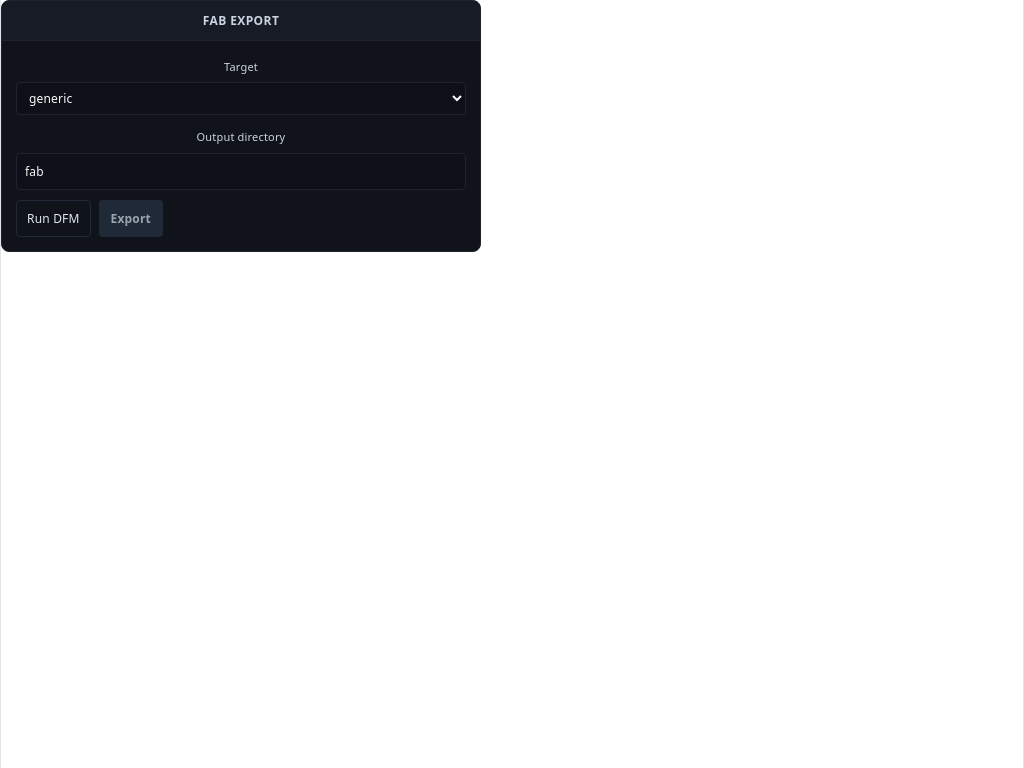
Test: FabExportDialog › running DFM with errors keeps Export disabled and lists issues
Click the button with test id "fab-dfm-run" at x=53, y=218, box [16,200,91,237]
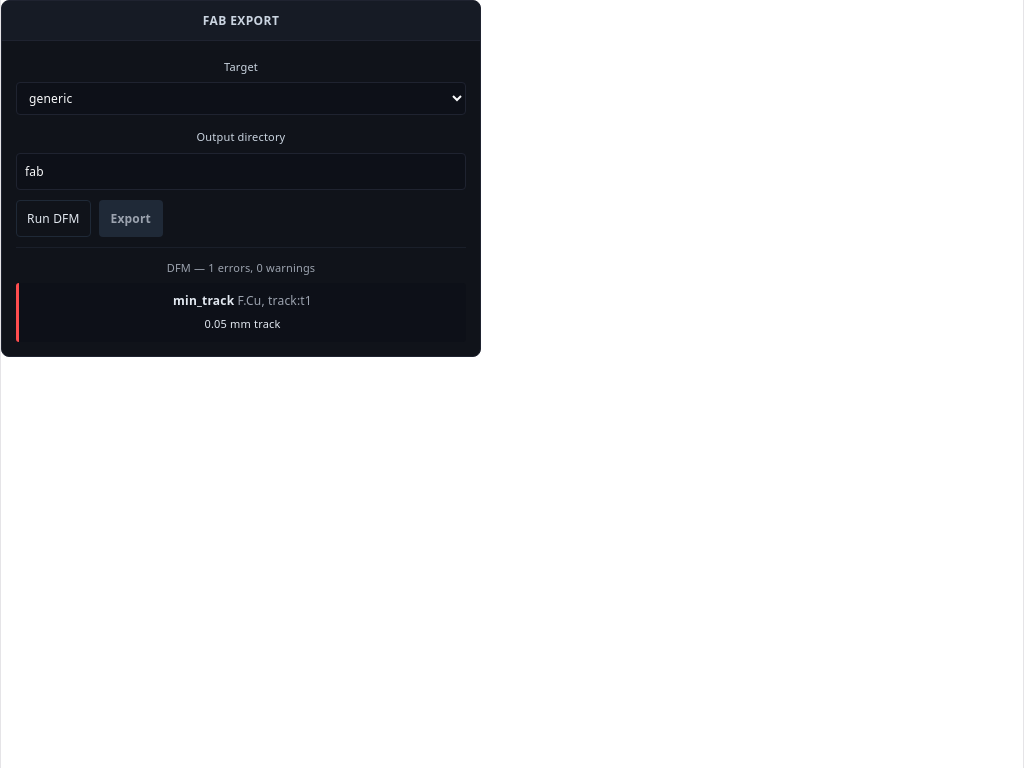
Check: the button with test id "fab-export" is disabled, box [99,200,163,237]
Check: the number of list items with test id "fab-dfm-issue" is 1, box [16,283,466,342]
